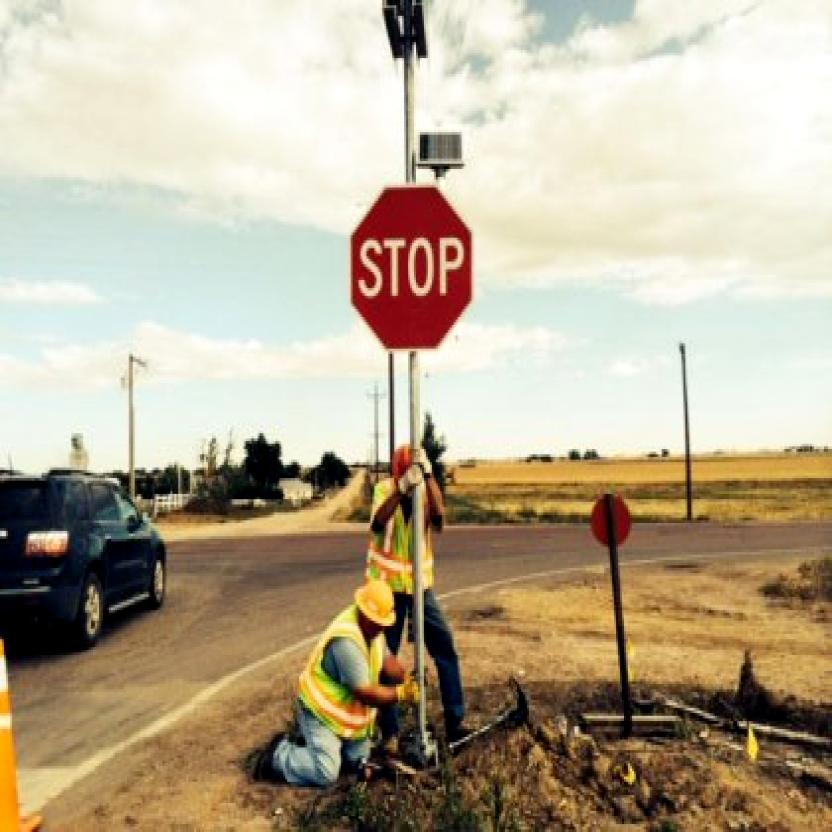Pole: (408, 359, 430, 758), (605, 553, 633, 719)
Sign: (347, 189, 475, 351)
